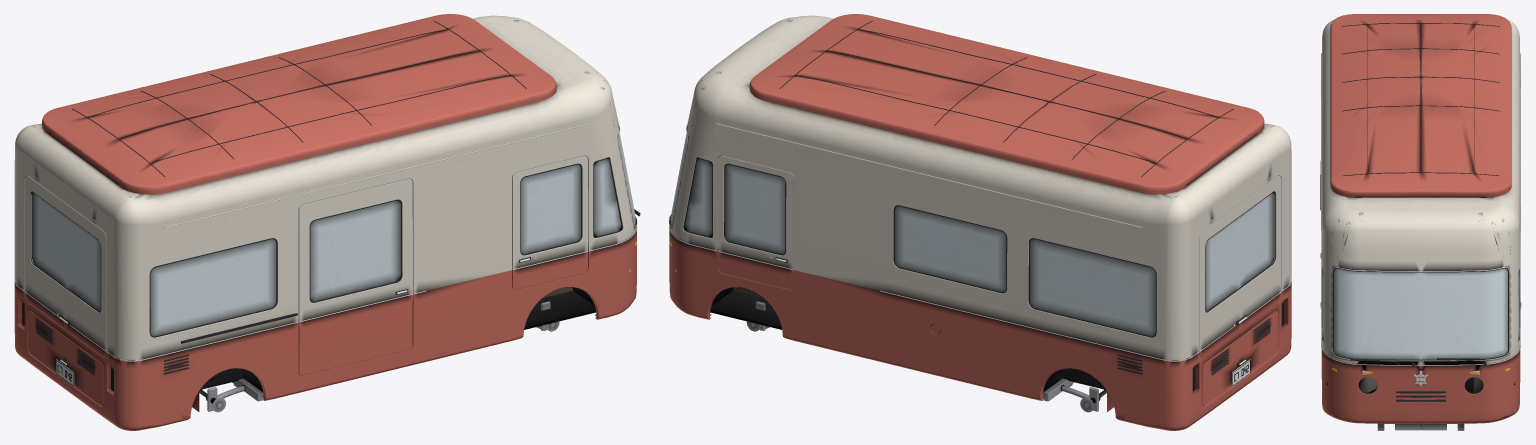
File: turtle.glb
3 views of the same model, side by side, from view 1: azimuth 30°, elevation 25°; view 2: azimuth 150°, elevation 25°; view 3: azimuth 270°, elevation 25° (orthographic). The views are drawn at different scales.
Parts seen in each view (by area): view 1: BODY, POPUP_roof, P_door_side, GLASS, PG_door_side, P_trunk, PG_trunk, PG_door_FR, P_door_FR, P_hood, INTERIOR, UNDER; view 2: BODY, POPUP_roof, GLASS, P_trunk, PG_trunk, PG_door_FL, P_door_FL, P_hood, INTERIOR, UNDER; view 3: POPUP_roof, BODY, GLASS, UNDER, INTERIOR.
Part boxes in pixels (x1=…): BODY: x1=14, y1=15, x2=637, y2=430; POPUP_roof: x1=42, y1=14, x2=556, y2=194; P_door_side: x1=298, y1=178, x2=412, y2=375; GLASS: x1=150, y1=134, x2=635, y2=336; PG_door_side: x1=310, y1=200, x2=400, y2=301; P_trunk: x1=24, y1=175, x2=106, y2=356; PG_trunk: x1=32, y1=192, x2=100, y2=311; PG_door_FR: x1=521, y1=164, x2=580, y2=254; P_door_FR: x1=512, y1=155, x2=588, y2=289; P_hood: x1=28, y1=310, x2=103, y2=406; INTERIOR: x1=21, y1=156, x2=630, y2=396; UNDER: x1=199, y1=287, x2=635, y2=401; BODY: x1=669, y1=15, x2=1291, y2=430; POPUP_roof: x1=749, y1=14, x2=1264, y2=194; GLASS: x1=670, y1=134, x2=1155, y2=336; P_trunk: x1=1199, y1=176, x2=1281, y2=356; PG_trunk: x1=1205, y1=192, x2=1274, y2=311; PG_door_FL: x1=725, y1=164, x2=785, y2=254; P_door_FL: x1=718, y1=155, x2=794, y2=289; P_hood: x1=1202, y1=310, x2=1278, y2=406; INTERIOR: x1=675, y1=269, x2=1285, y2=396; UNDER: x1=670, y1=287, x2=1106, y2=401; POPUP_roof: x1=1330, y1=14, x2=1511, y2=197; BODY: x1=1320, y1=20, x2=1520, y2=423; GLASS: x1=1322, y1=268, x2=1519, y2=359; UNDER: x1=1333, y1=415, x2=1508, y2=430; INTERIOR: x1=1327, y1=377, x2=1514, y2=392.
Size of the model in its own units: 5.66 by 2.6 by 2.16.
